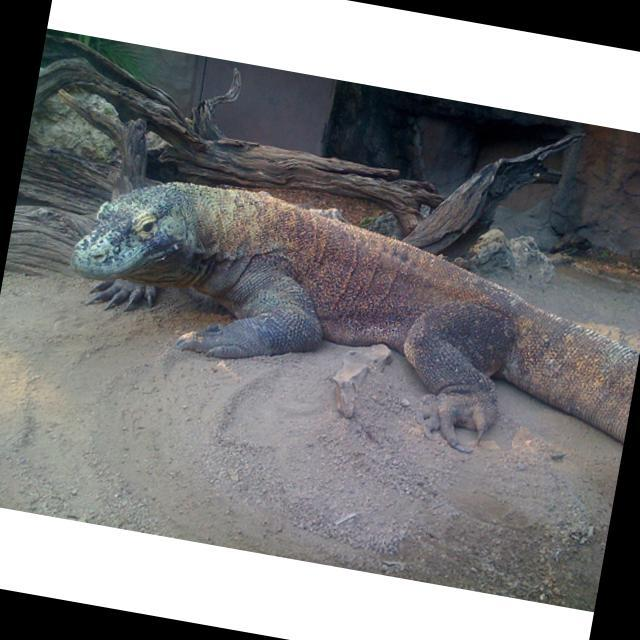KomodoDragon: (46, 158, 640, 479)
